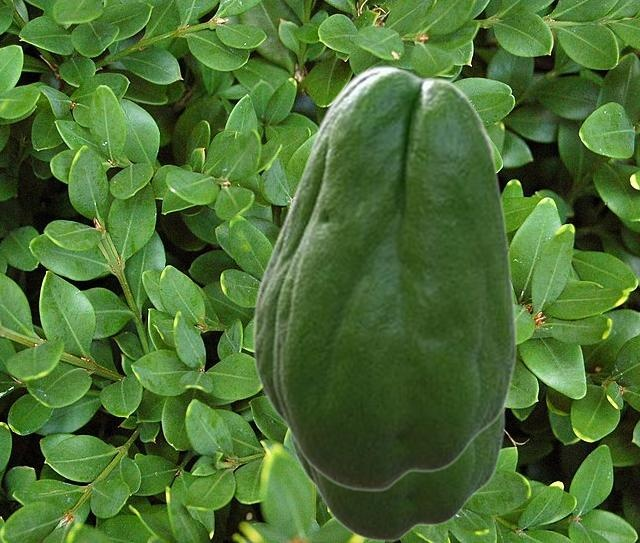sayote: (252, 65, 517, 491), (288, 409, 505, 541)
